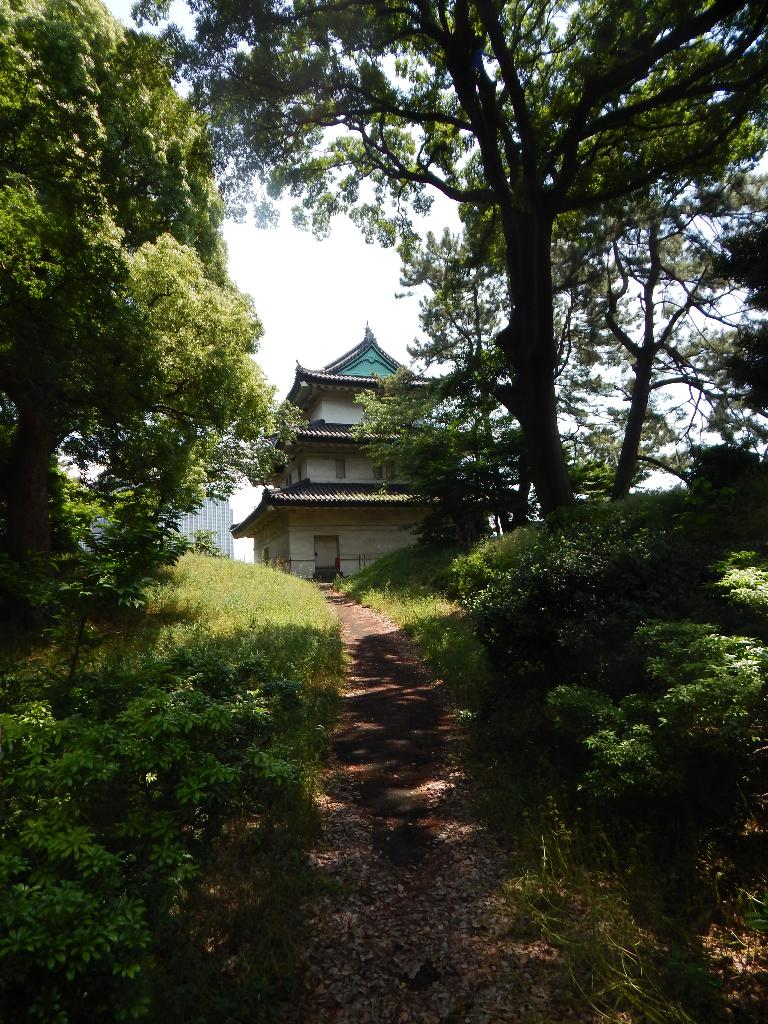Tree: (184, 0, 767, 526), (30, 30, 272, 759), (352, 232, 529, 543)
